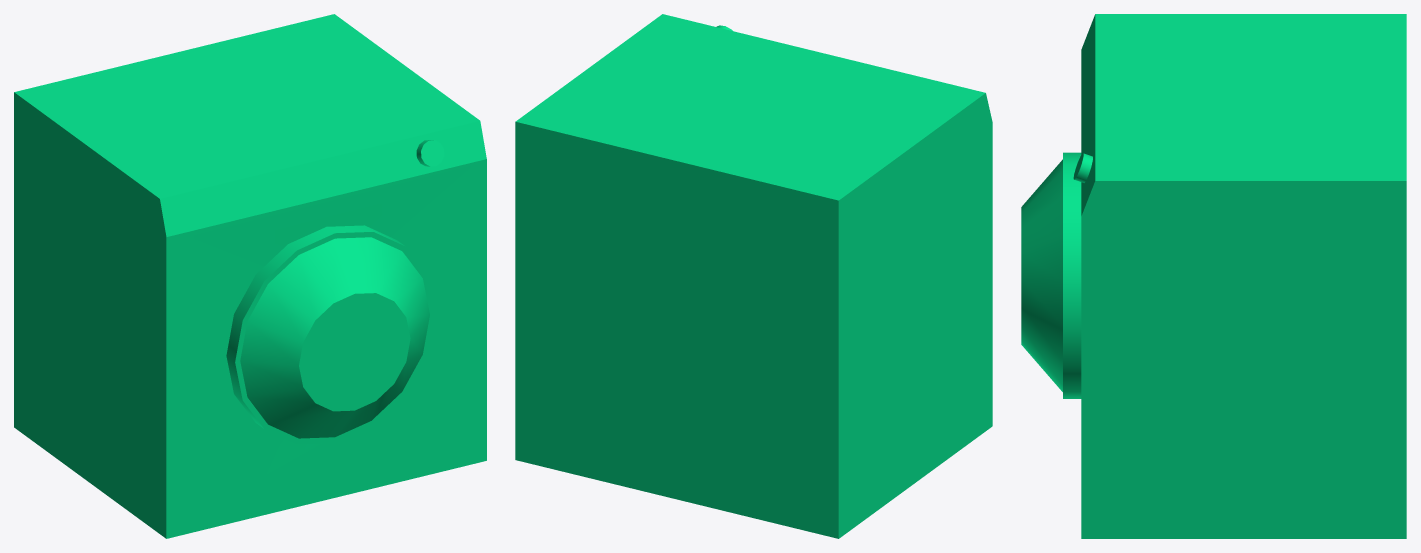
File: Wasmachine.fbx
3 views of the same model, side by side, from view 1: azimuth 30°, elevation 25°; view 2: azimuth 150°, elevation 25°; view 3: azimuth 270°, elevation 25° (orthographic). The views are drawn at different scales.
Parts seen in each view (by area): view 1: WasMachine, WasMachineDoor; view 2: WasMachine; view 3: WasMachine, WasMachineDoor.
Boxes of the visible parts, x1,y1,x2,y2 form: WasMachine: (14, 14, 486, 538); WasMachineDoor: (231, 228, 435, 443); WasMachine: (515, 14, 992, 538); WasMachine: (1072, 14, 1406, 538); WasMachineDoor: (1021, 152, 1072, 398).
Bounding box in the file's own units: 85 × 85 × 82.91.
